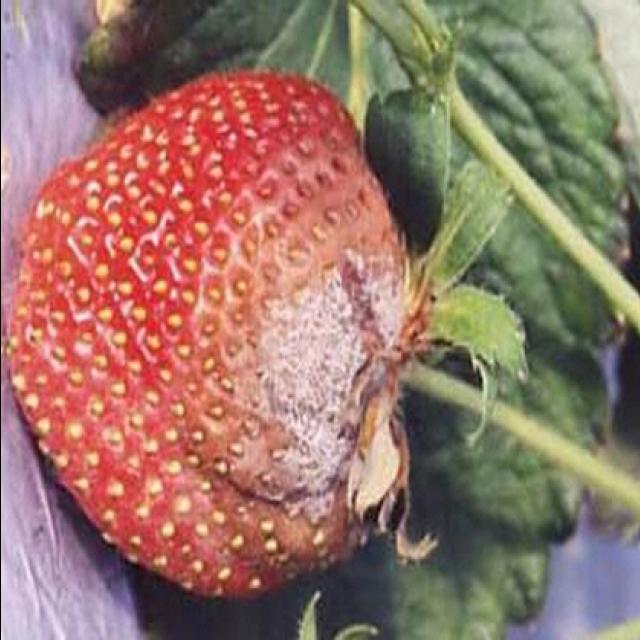Gray Mold: (171, 70, 437, 593)
